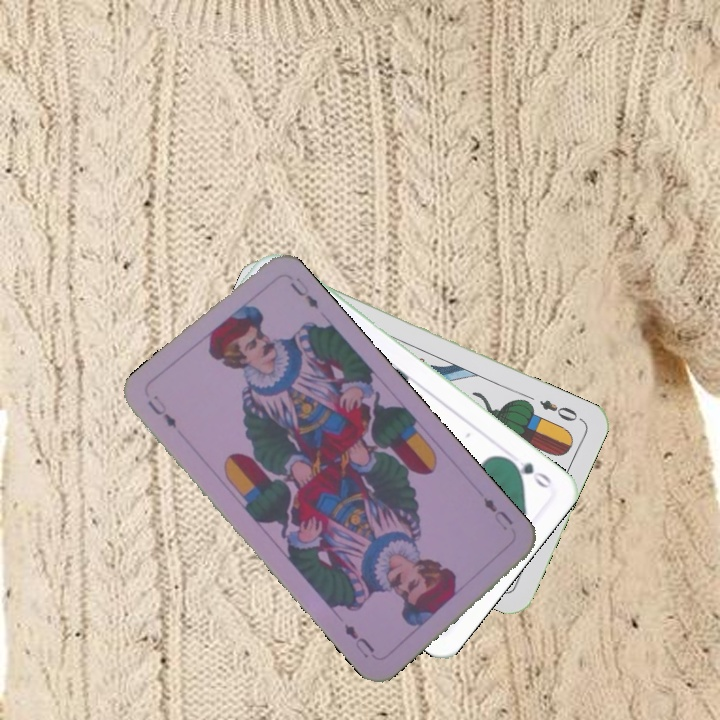EO: (535, 395, 585, 424)
EU: (479, 493, 516, 533), (143, 391, 180, 431)
GO: (502, 453, 555, 492)
